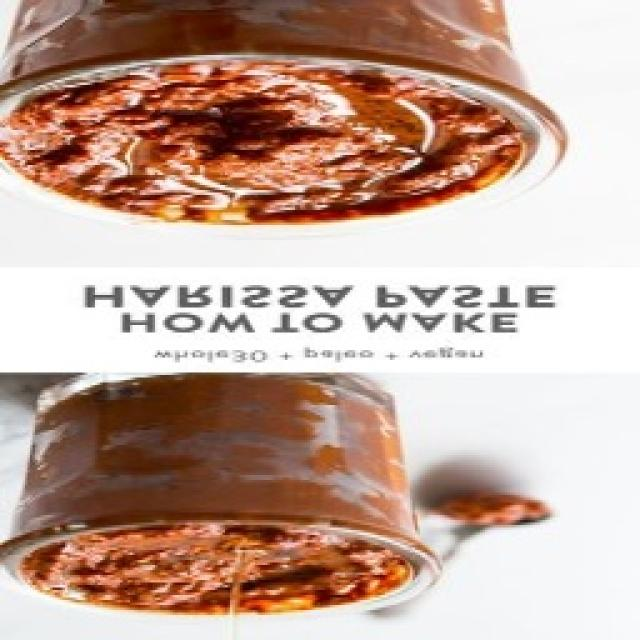Harissa: (0, 376, 440, 615), (2, 64, 520, 222)
